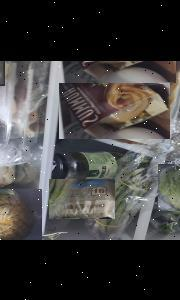Esparrago: (87, 154, 157, 240)
Humus: (59, 64, 170, 138)
Leche: (57, 60, 176, 82)
Lechuga/Endivia: (158, 163, 180, 210)
Pan de sandwich: (49, 178, 115, 218)
Pina: (0, 188, 42, 240)
Queso: (0, 60, 22, 85)
